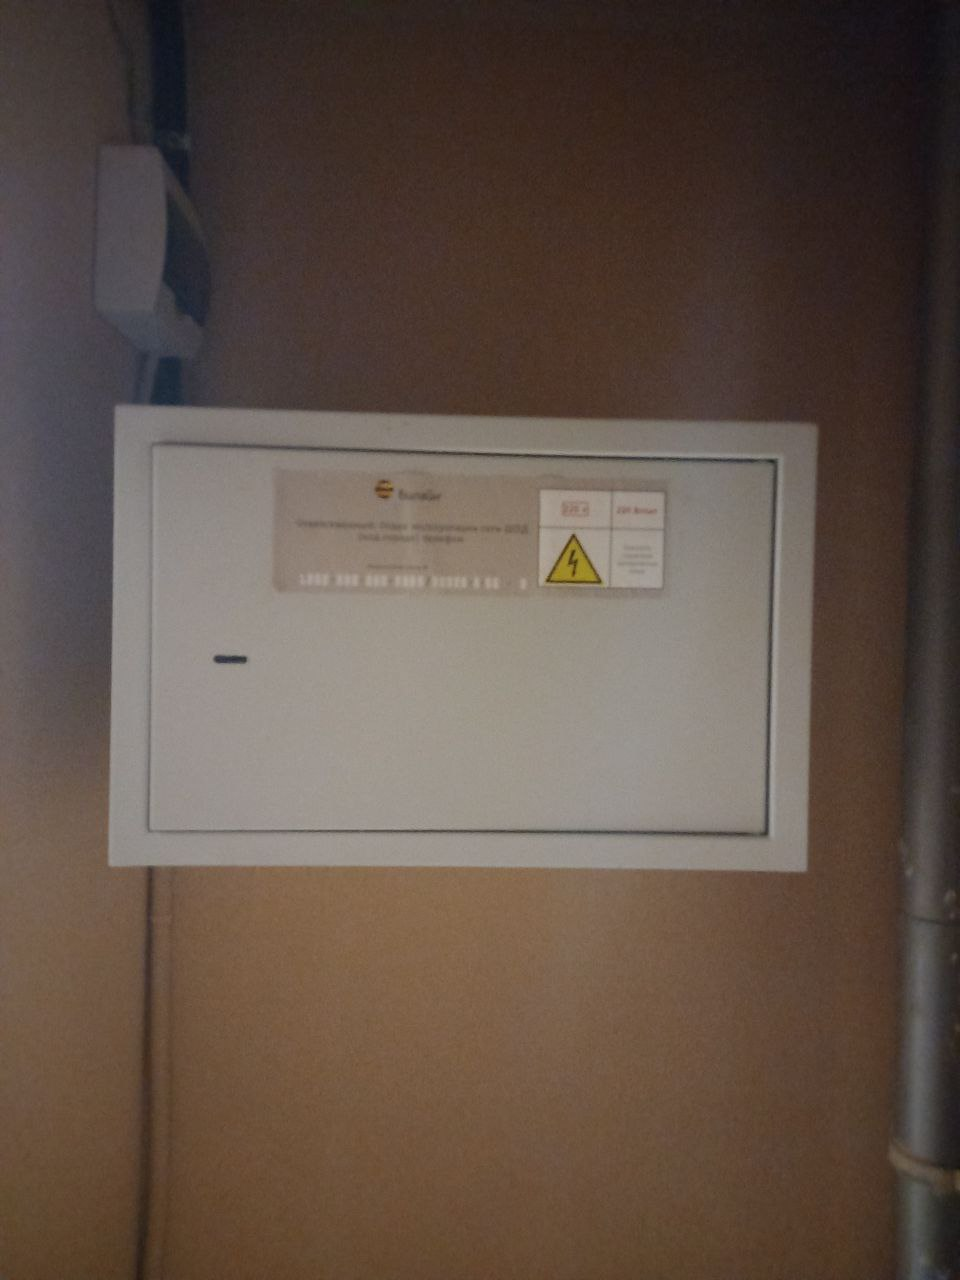shta-7m: (91, 380, 831, 895)
